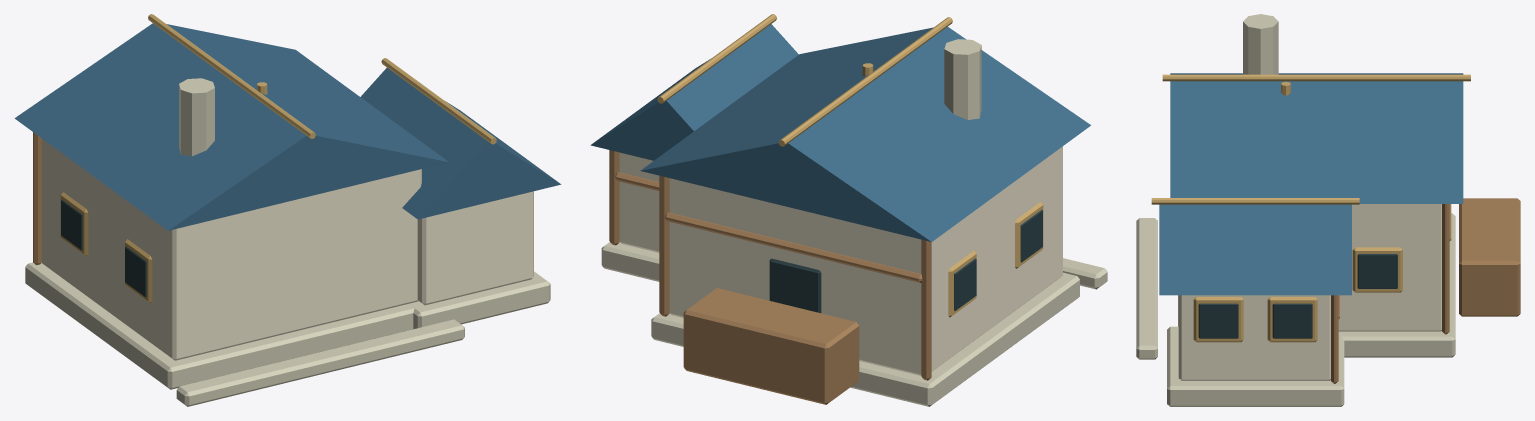
Rendered from level_07.glb.
3 views of the same model, side by side, from view 1: azimuth 30°, elevation 25°; view 2: azimuth 150°, elevation 25°; view 3: azimuth 270°, elevation 25° (orthographic). The views are drawn at different scales.
Parts seen in each view (by area): view 1: workshop — level 07; view 2: workshop — level 07; view 3: workshop — level 07.
Part boxes in pixels (box(x1,y1,x2,y2)): workshop — level 07: box(14, 14, 561, 406); workshop — level 07: box(590, 14, 1107, 406); workshop — level 07: box(1136, 14, 1520, 406).
Bounding box in the file's own units: 5.53 × 3.5 × 4.98.
